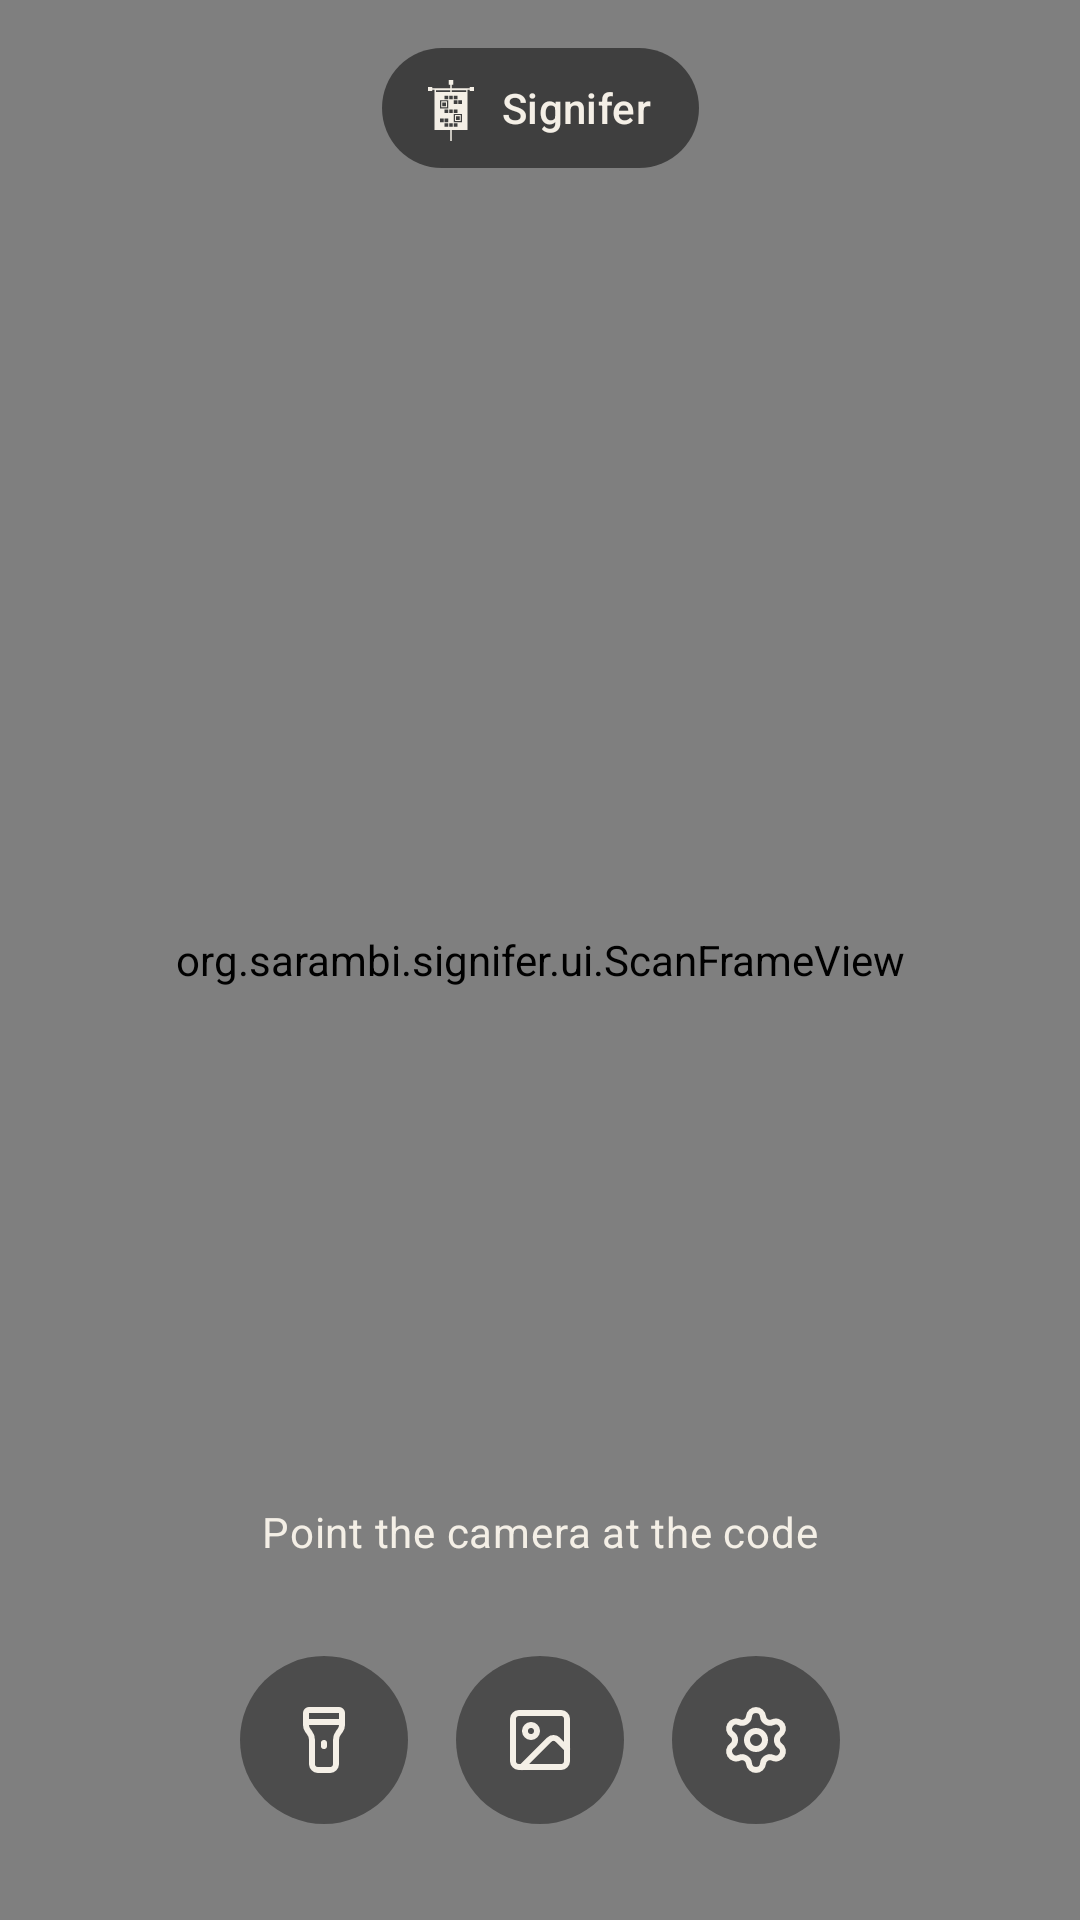

Locate icon controls on the screen. Image size 1080 × 1920, boxes as (x1, y1, x2, y2).
Flashlight: (240, 1656, 408, 1824)
Read from an image: (456, 1656, 624, 1824)
Settings: (672, 1656, 840, 1824)
